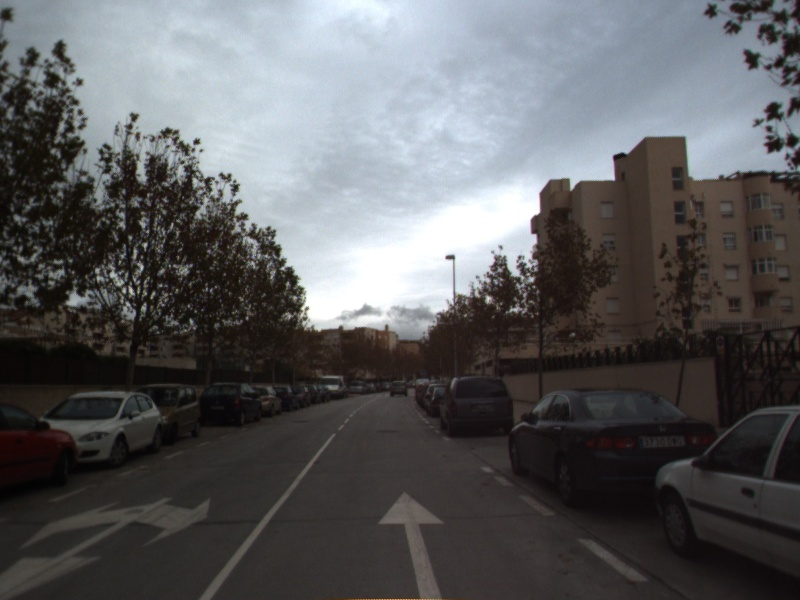STRAIGHT: (376, 488, 449, 600)
